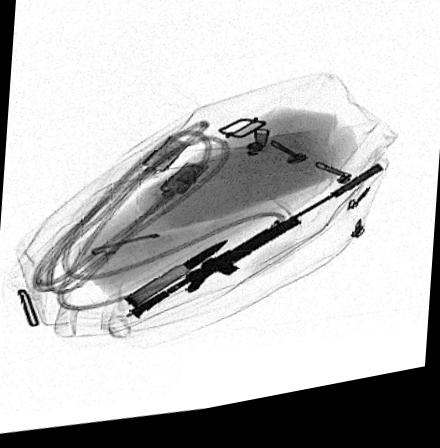Bullet: (124, 248, 228, 311)
Gun: (126, 177, 383, 323)
